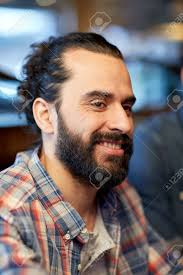middle_eastern_male: (43, 40, 140, 178)
